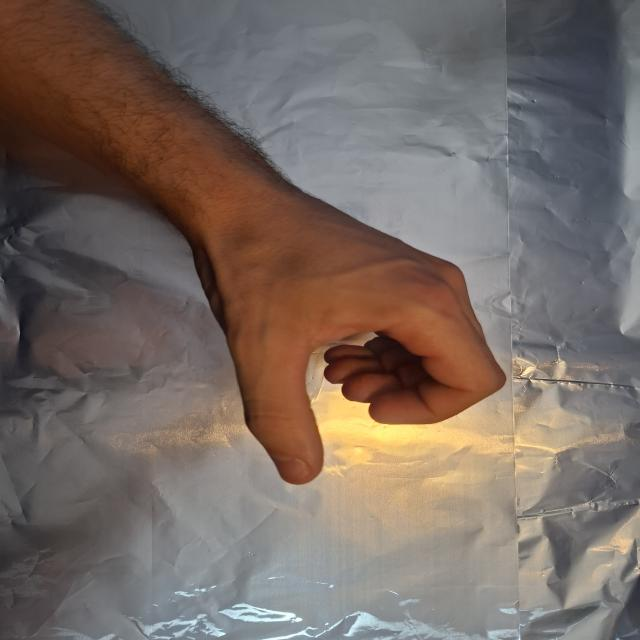glove_off: (175, 182, 509, 487)
